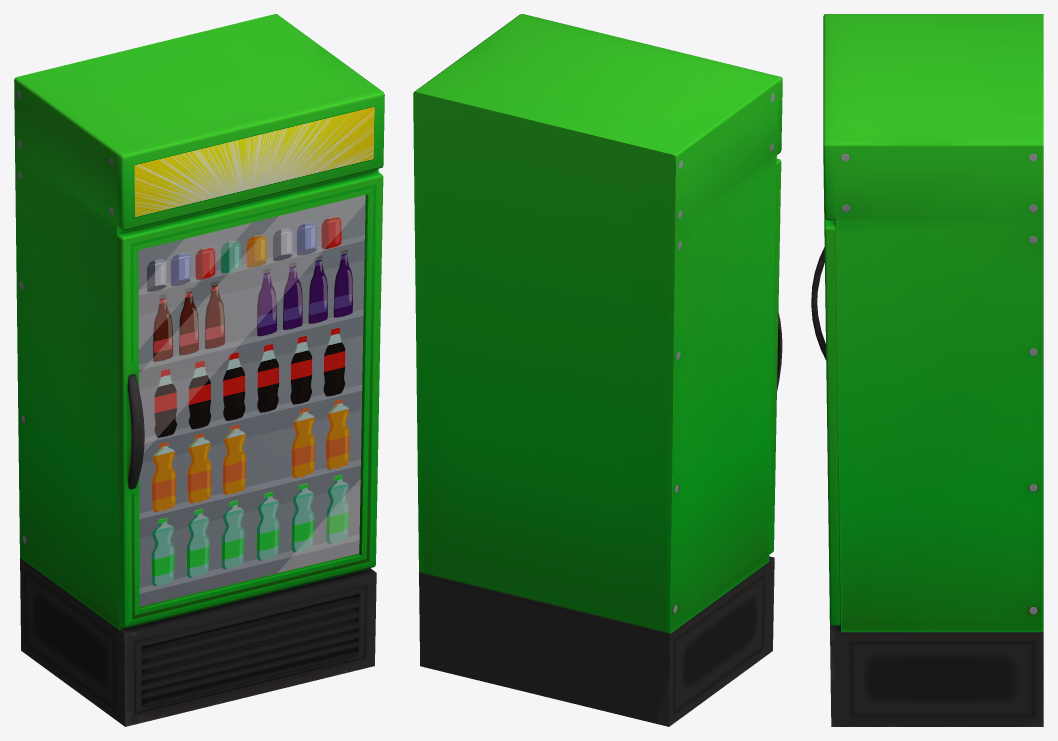
Rendered from CommRefrigerator04.FBX.
3 views of the same model, side by side, from view 1: azimuth 30°, elevation 25°; view 2: azimuth 150°, elevation 25°; view 3: azimuth 270°, elevation 25° (orthographic). The views are drawn at different scales.
Parts seen in each view (by area): view 1: CommRefrigerator04; view 2: CommRefrigerator04; view 3: CommRefrigerator04.
Part boxes in pixels (x1=…): CommRefrigerator04: x1=14, y1=14, x2=384, y2=726; CommRefrigerator04: x1=413, y1=14, x2=782, y2=726; CommRefrigerator04: x1=811, y1=14, x2=1043, y2=726.
Size of what is drawn, in the model's own units: 1.06 by 2.2 by 0.7905.
